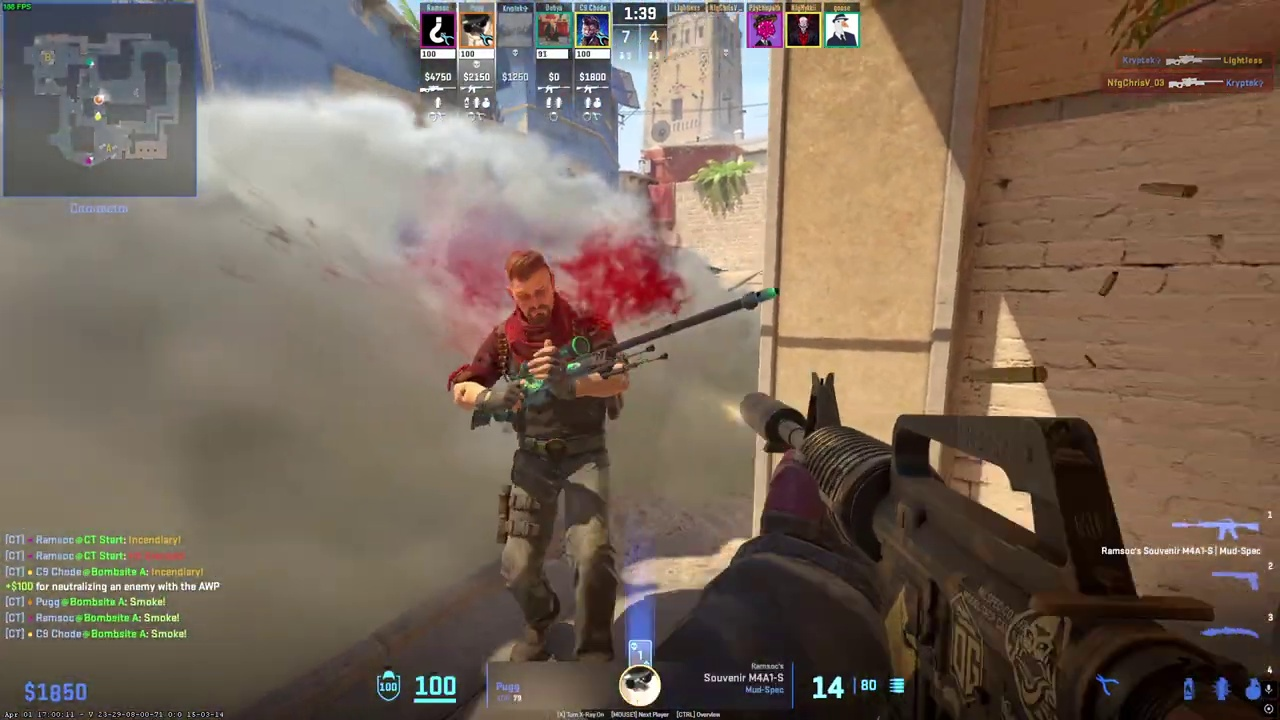Terrorist: (473, 248, 629, 666)
